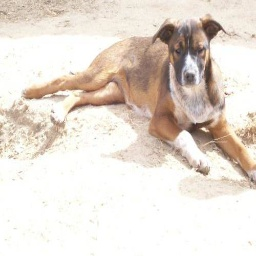dog: (21, 17, 256, 187)
